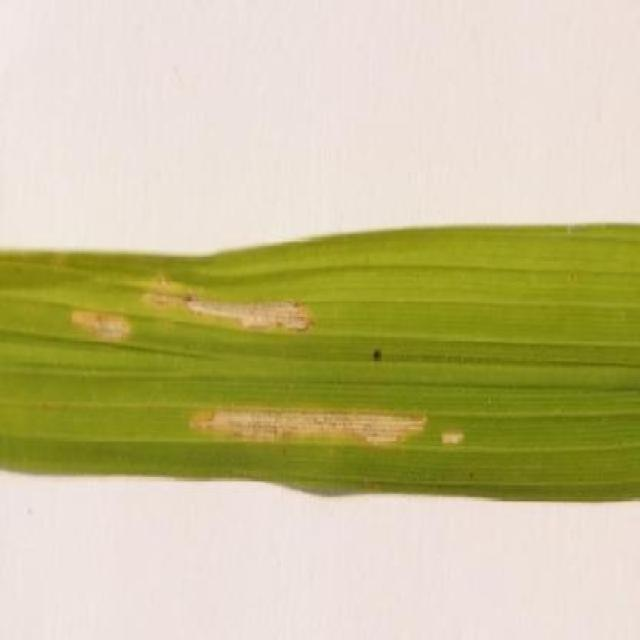Brown_Spot: (0, 228, 640, 509)
